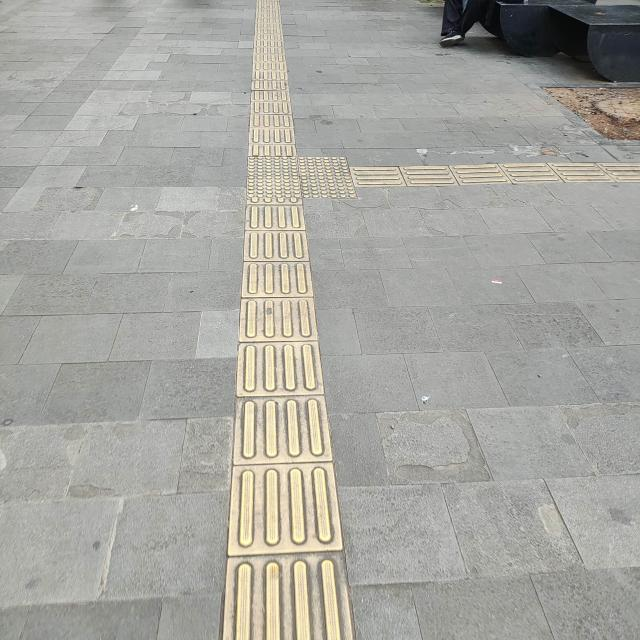lurus: (230, 184, 324, 640), (230, 0, 306, 154)
